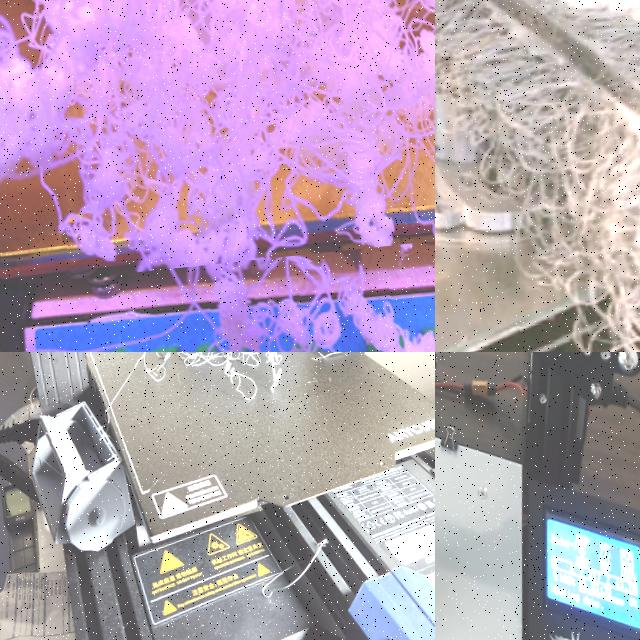spaghetti: (0, 0, 435, 287), (435, 0, 640, 352), (182, 243, 435, 352), (141, 352, 354, 411)
